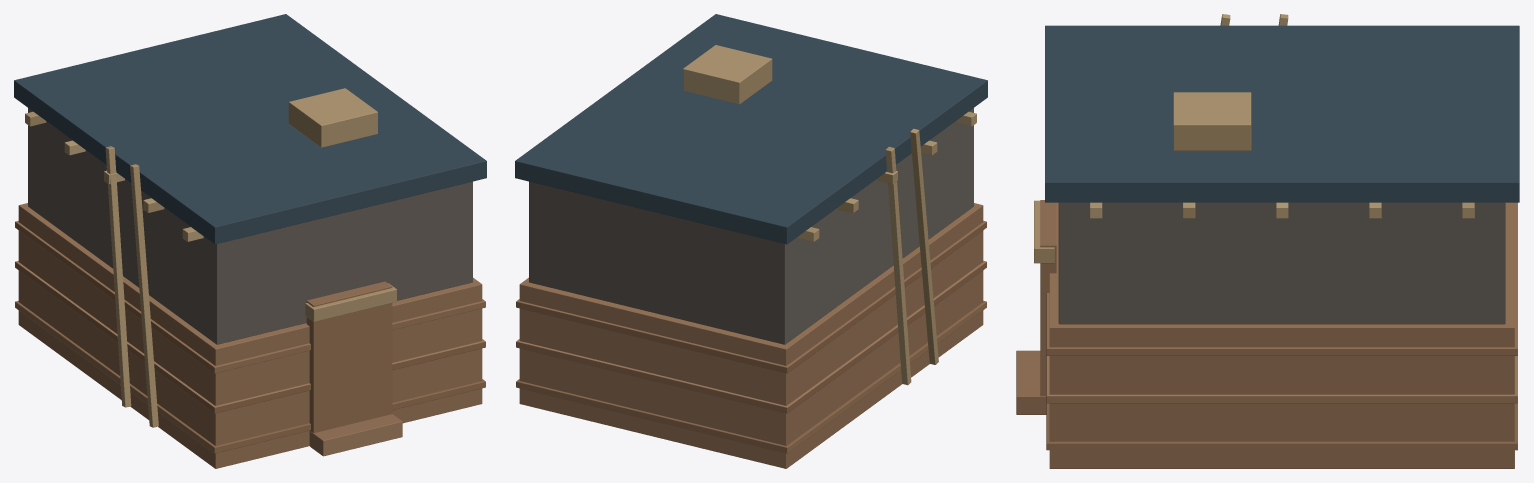
Rendered from House_Neo_b.fbx.
The picture shows the model from 3 angles, left to right: view 1: azimuth 30°, elevation 25°; view 2: azimuth 150°, elevation 25°; view 3: azimuth 270°, elevation 25°; orthographic projection. The views are drawn at different scales.
Visible parts, largest first — view 1: House_Neo_b; view 2: House_Neo_b; view 3: House_Neo_b.
Part boxes in pixels (x1,y1,x2,y2): House_Neo_b: (14, 14, 486, 468); House_Neo_b: (515, 14, 987, 468); House_Neo_b: (1016, 14, 1519, 468).
Size of what is drawn, in the model's own units: 3.8 by 3.36 by 4.87.
